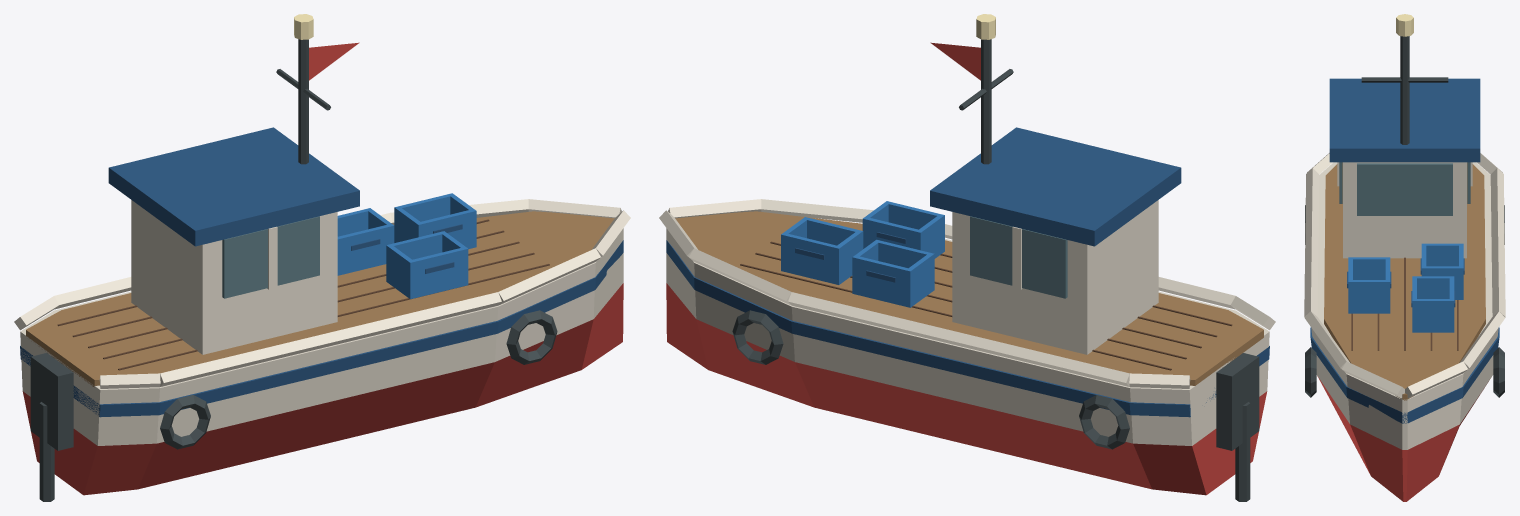
Rendered from fishing-boat-small.glb.
3 renders of one model, left to right at view 1: azimuth 30°, elevation 25°; view 2: azimuth 150°, elevation 25°; view 3: azimuth 270°, elevation 25°, orthographic. The views are drawn at different scales.
Visible parts, largest first — view 1: Ivory, HarborBlue, RescueRed, Wood, FishBox, Metal, Window, WoodDark; view 2: Ivory, HarborBlue, RescueRed, Wood, FishBox, Metal, Window, WoodDark; view 3: Ivory, Wood, HarborBlue, FishBox, Window, RescueRed, Metal, WoodDark, Lamp.
Boxes of the visible parts, box(x1,y1,x2,y2) form: Ivory: box(14, 199, 630, 445); HarborBlue: box(20, 127, 623, 417); RescueRed: box(22, 42, 623, 495); Wood: box(26, 211, 614, 387); FishBox: box(337, 193, 476, 299); Metal: box(30, 39, 557, 501); Window: box(222, 216, 319, 298); WoodDark: box(57, 219, 549, 370); Ivory: box(659, 199, 1275, 445); HarborBlue: box(666, 127, 1269, 417); RescueRed: box(666, 42, 1267, 495); Wood: box(675, 211, 1263, 385); FishBox: box(781, 201, 944, 307); Metal: box(732, 39, 1259, 501); Window: box(970, 216, 1067, 298); WoodDark: box(740, 241, 1232, 370); Ivory: box(1304, 153, 1505, 449); Wood: box(1324, 162, 1485, 400); HarborBlue: box(1310, 78, 1499, 423); FishBox: box(1348, 243, 1463, 332); Window: box(1339, 162, 1470, 215); RescueRed: box(1317, 376, 1488, 501); Metal: box(1305, 36, 1504, 397); WoodDark: box(1351, 257, 1458, 350); Lamp: box(1396, 14, 1413, 36).
Size of the model in its own units: 3.12 by 2.13 by 1.07.
